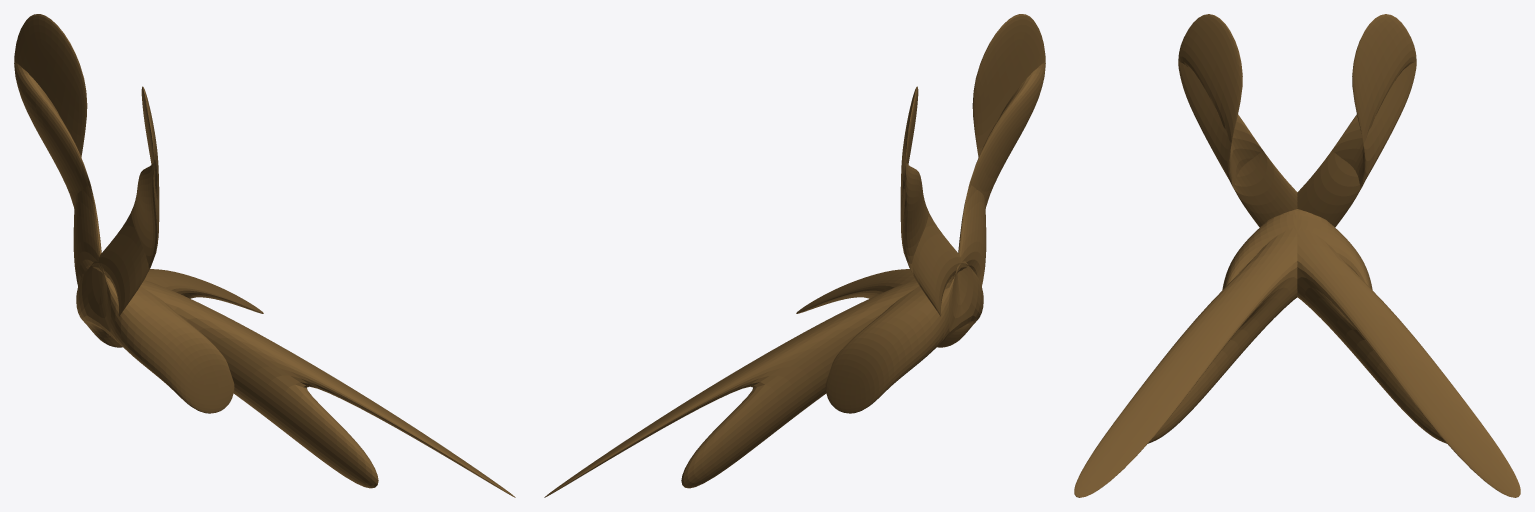
Rendered from Creaturestruc19.obj.
3 views of the same model, side by side, from view 1: azimuth 30°, elevation 25°; view 2: azimuth 150°, elevation 25°; view 3: azimuth 270°, elevation 25° (orthographic). The views are drawn at different scales.
Visible parts, largest first — view 1: Cube_Cube.020; view 2: Cube_Cube.020; view 3: Cube_Cube.020.
Boxes of the visible parts, left/top/right/bottom form: Cube_Cube.020: left=14, top=14, right=515, bottom=497; Cube_Cube.020: left=544, top=14, right=1045, bottom=497; Cube_Cube.020: left=1074, top=14, right=1520, bottom=497.
Size of the model in its own units: 10.72 by 14.32 by 16.05.
